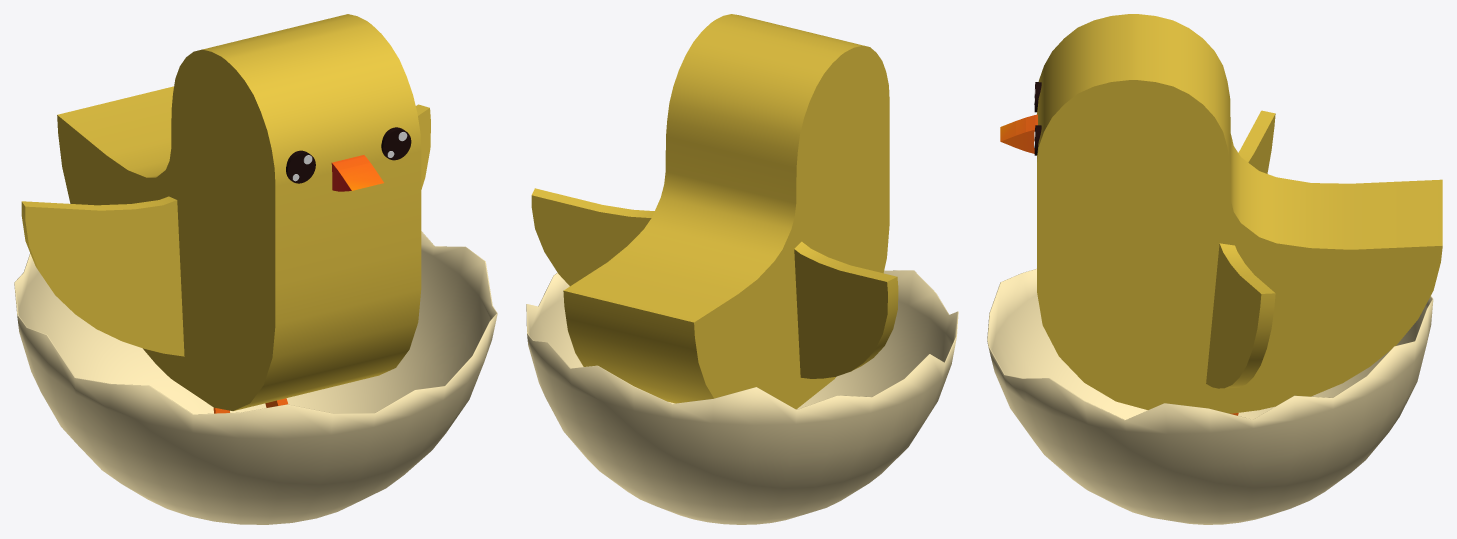
File: Hatching_Chick.gltf
3 views of the same model, side by side, from view 1: azimuth 30°, elevation 25°; view 2: azimuth 150°, elevation 25°; view 3: azimuth 270°, elevation 25° (orthographic). The views are drawn at different scales.
Visible parts, largest first — view 1: Cube.6279, Sphere.383, Circle.1943, Cube.6280; view 2: Cube.6279, Sphere.383, Circle.1943; view 3: Cube.6279, Sphere.383, Circle.1943, Cube.6280.
Boxes of the visible parts, x1=… form: Cube.6279: x1=57, y1=14, x2=421, y2=410; Sphere.383: x1=14, y1=231, x2=497, y2=524; Circle.1943: x1=21, y1=104, x2=430, y2=356; Cube.6280: x1=331, y1=155, x2=383, y2=191; Cube.6279: x1=563, y1=14, x2=889, y2=409; Sphere.383: x1=526, y1=270, x2=958, y2=524; Circle.1943: x1=531, y1=188, x2=898, y2=378; Cube.6279: x1=1037, y1=14, x2=1442, y2=413; Sphere.383: x1=987, y1=269, x2=1433, y2=524; Circle.1943: x1=1034, y1=82, x2=1275, y2=388; Cube.6280: x1=1000, y1=114, x2=1037, y2=153.
Size of the model in its own units: 1.68 by 1.88 by 1.7.
Materials: 5 (2 with a texture image).
